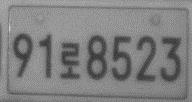1: (38, 33, 52, 80)
2: (136, 35, 157, 83)
3: (160, 35, 181, 82)
5: (111, 35, 131, 81)
8: (86, 34, 107, 81)
9: (12, 33, 33, 79)
로: (59, 40, 81, 81)
